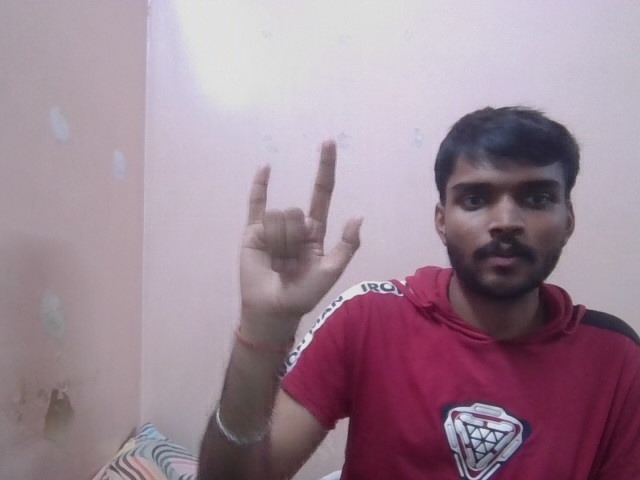I Love You: (234, 129, 360, 318)
